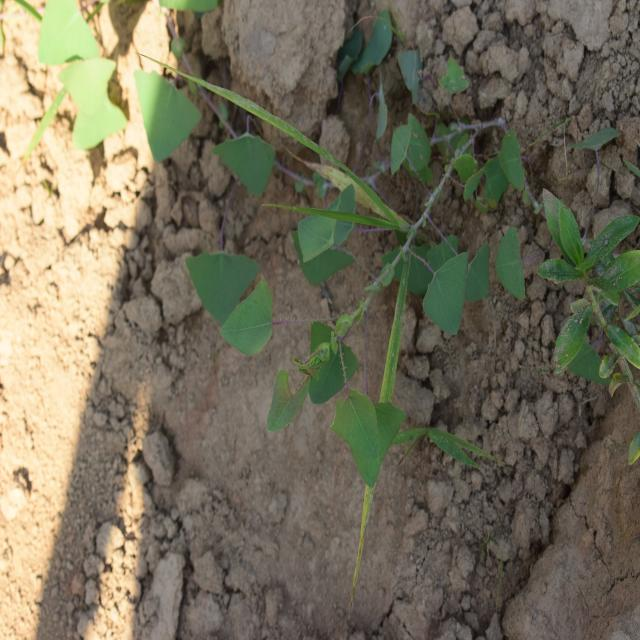Asiatic_Smartweed: (164, 189, 406, 475), (138, 54, 273, 197), (418, 217, 535, 339)
